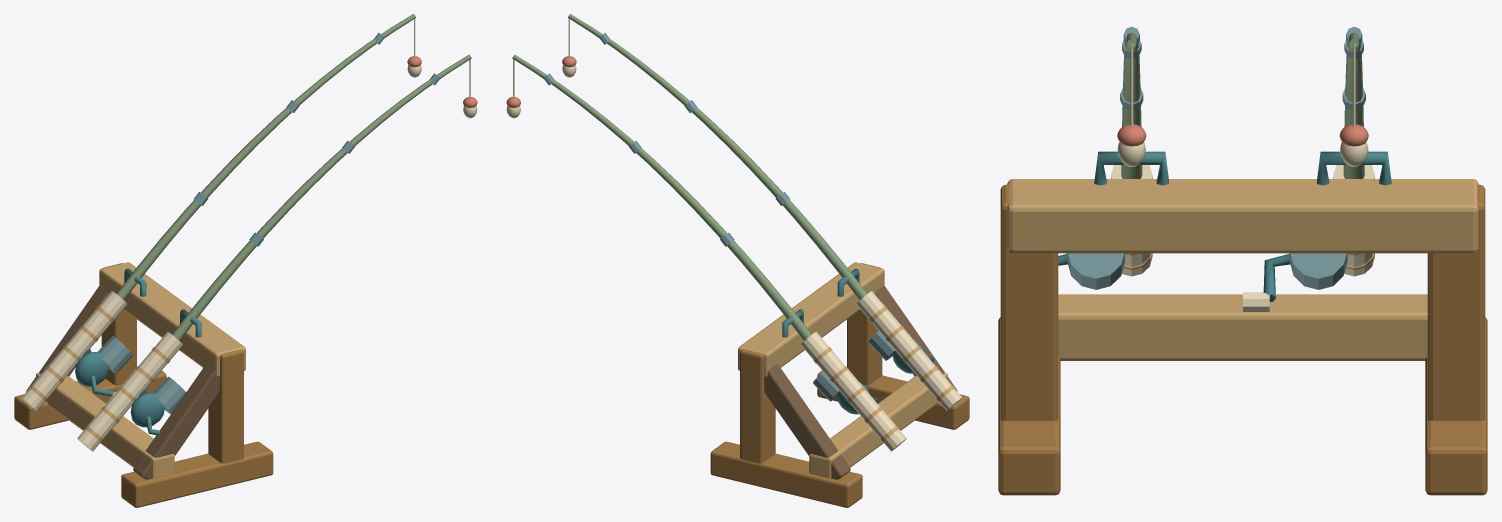
Rendered from SM_FishingRodStand.fbx.
3 views of the same model, side by side, from view 1: azimuth 30°, elevation 25°; view 2: azimuth 150°, elevation 25°; view 3: azimuth 270°, elevation 25° (orthographic). The views are drawn at different scales.
Visible parts, largest first — view 1: SM_FishingRodStand; view 2: SM_FishingRodStand; view 3: SM_FishingRodStand.
Part boxes in pixels (x1,y1,x2,y2): SM_FishingRodStand: (14,14,477,507); SM_FishingRodStand: (506,14,969,507); SM_FishingRodStand: (998,26,1487,495).
Bounding box in the file's own units: 2.06 × 1.1 × 1.69.
